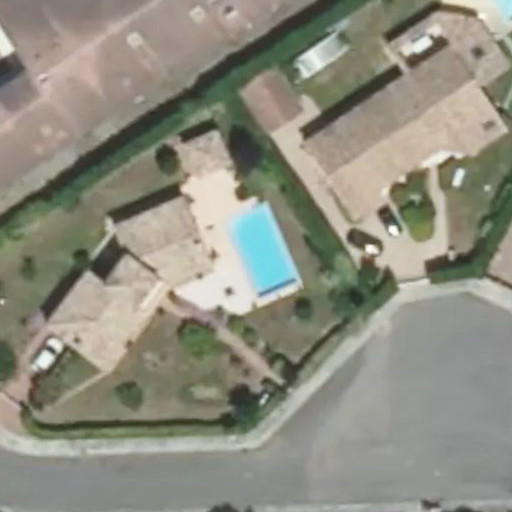pool: (220, 210, 292, 273)
